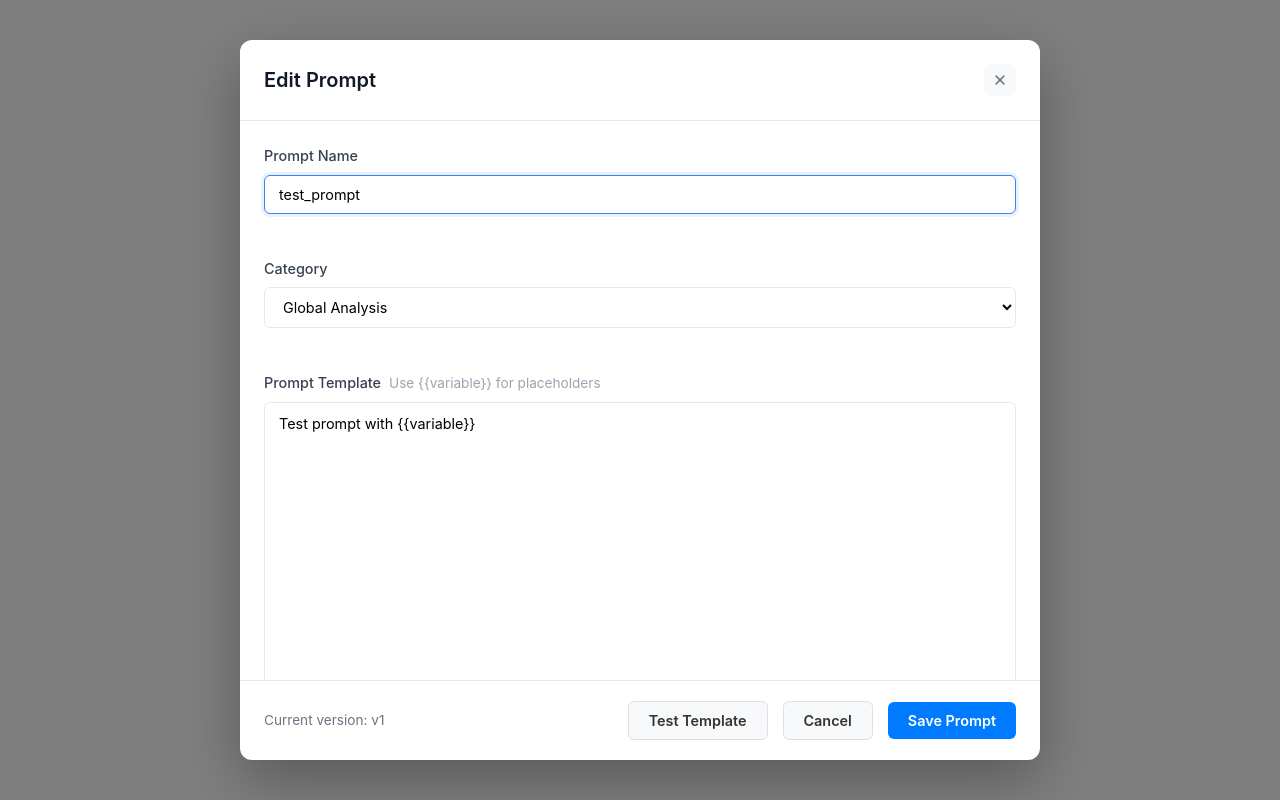
Test: PromptEditor › Save Functionality › should handle save errors gracefully
Replace the text in the field labelled "Prompt Name" with "updated_prompt" at point(640, 194), box [264,175,1016,214]
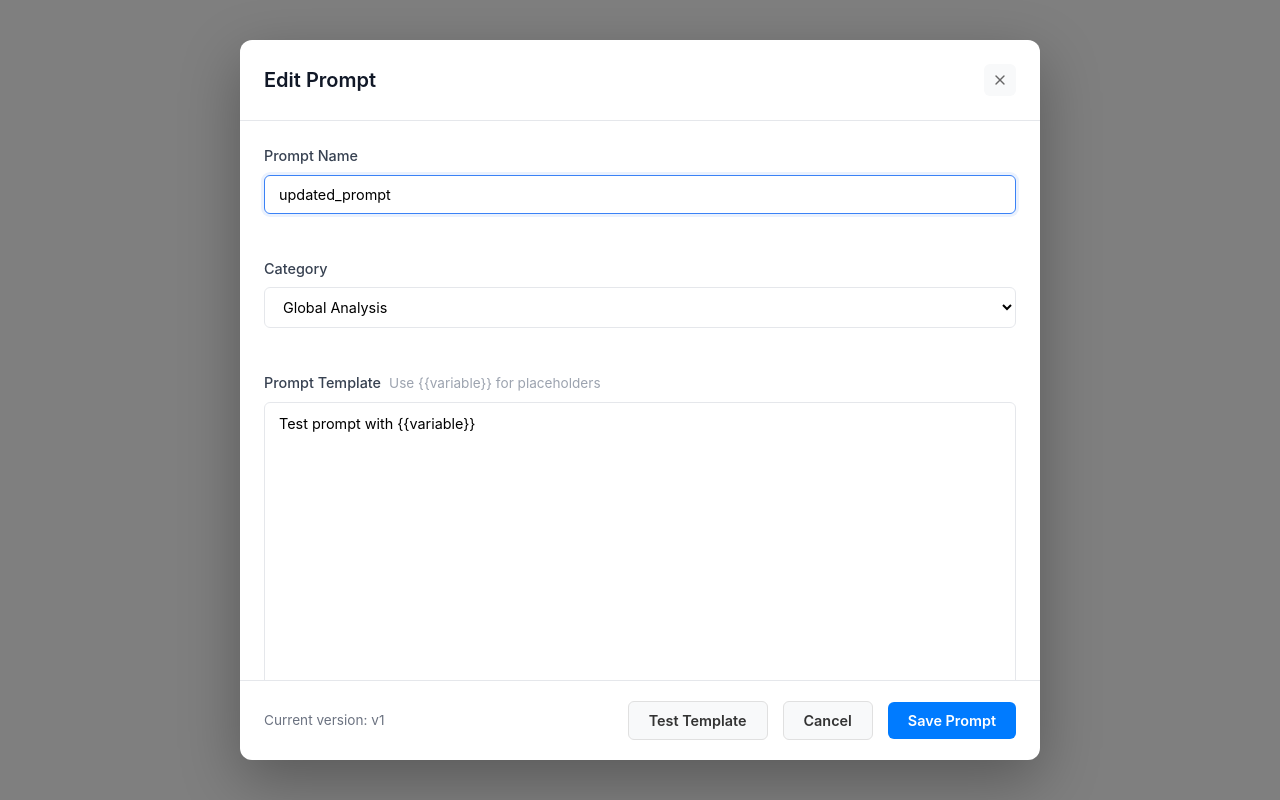
Click the button "Save Prompt" at point(952, 720), box [888,702,1016,739]
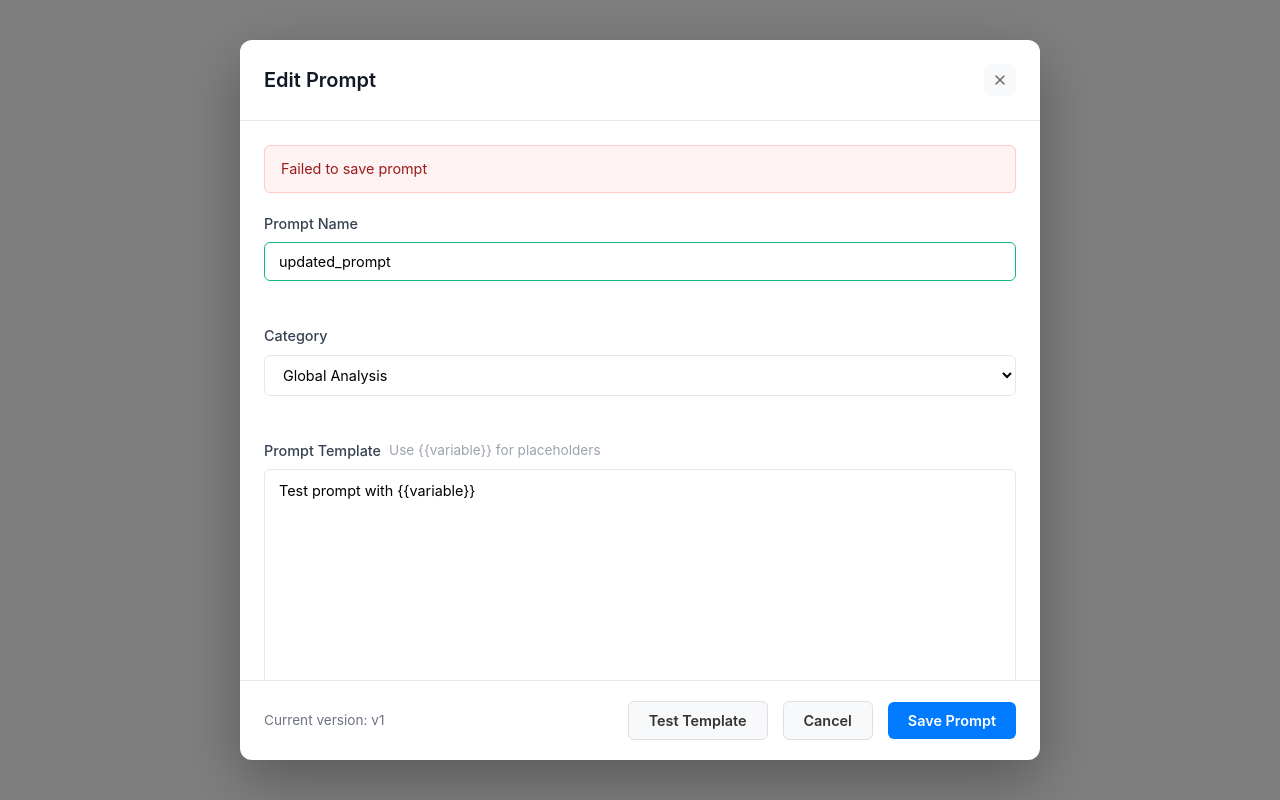
Expected: the text "Failed to save prompt" is shown, [264,145,1016,193]
